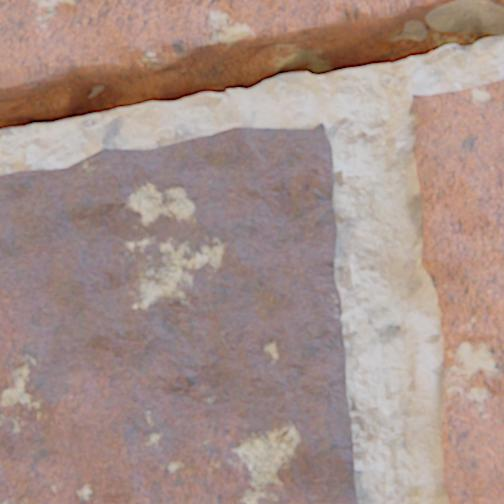brick: (0, 123, 357, 503), (0, 0, 458, 97), (411, 80, 503, 503), (477, 0, 503, 1)
crack: (0, 2, 503, 131)
